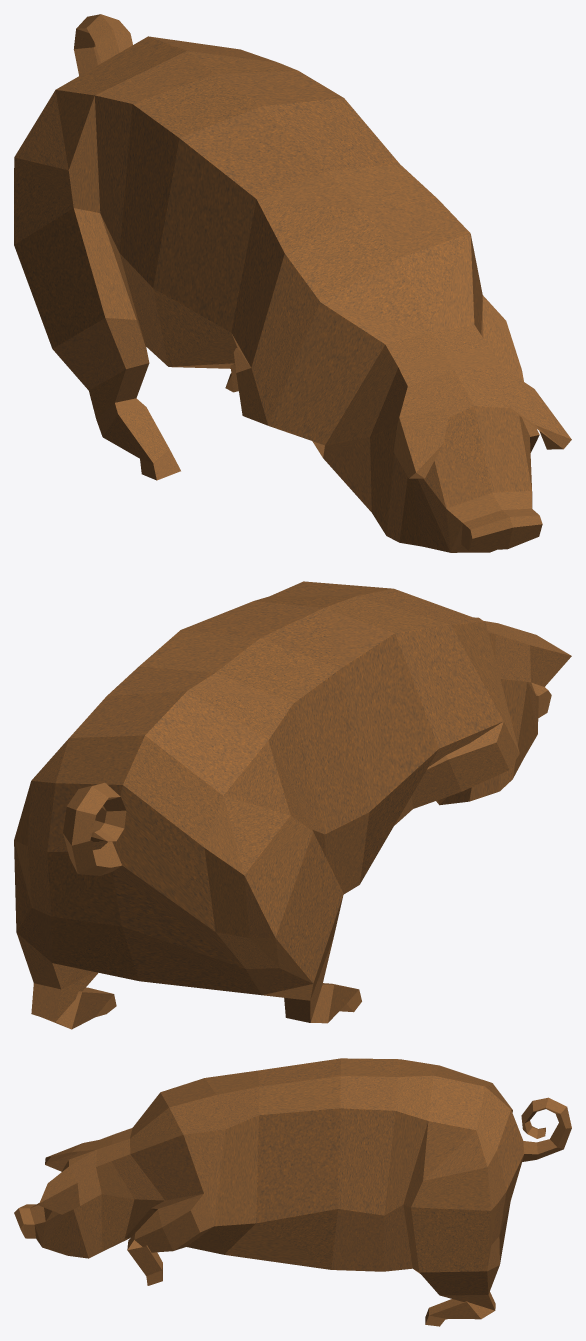
Rendered from Pig_000008.obj.
The picture shows the model from 3 angles, top to bottom: view 1: azimuth 30°, elevation 25°; view 2: azimuth 150°, elevation 25°; view 3: azimuth 270°, elevation 25°; orthographic projection. The views are drawn at different scales.
Parts seen in each view (by area): view 1: Pig_Cylinder; view 2: Pig_Cylinder; view 3: Pig_Cylinder.
Boxes of the visible parts, bbox=[...] form: Pig_Cylinder: bbox=[14, 14, 571, 552]; Pig_Cylinder: bbox=[14, 581, 571, 1029]; Pig_Cylinder: bbox=[14, 1058, 571, 1326].
Bounding box in the file's own units: 3.38 × 4.2 × 9.69.
Materials: 1 (1 with a texture image).
